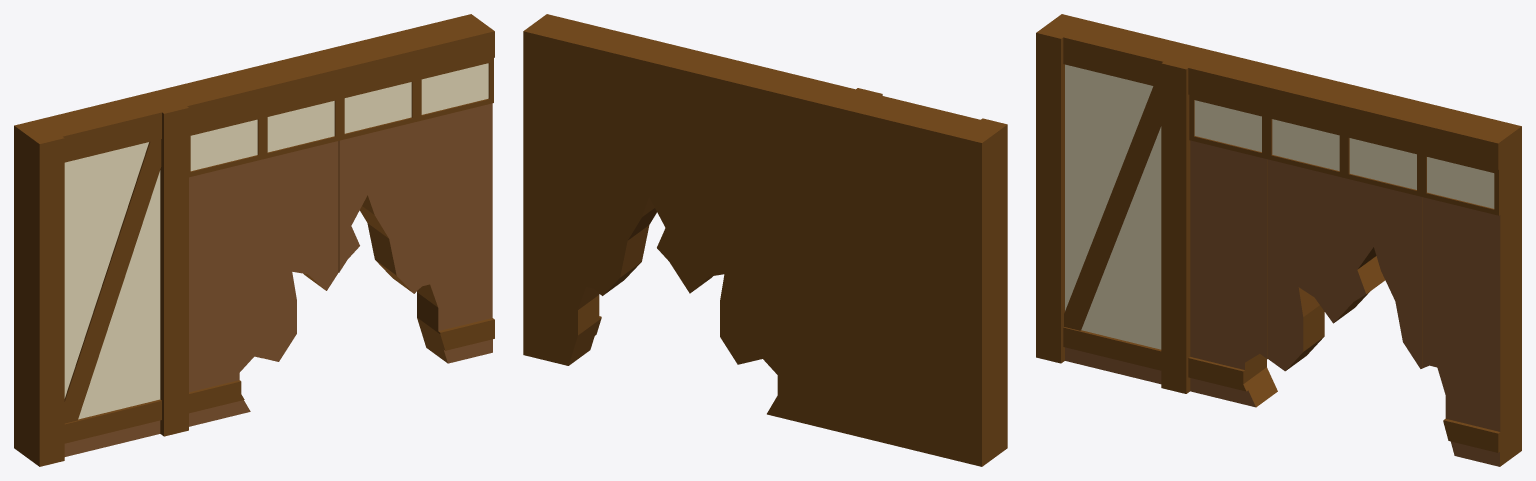
Rendered from Asian_Prop_Building_Modular_Wall_Rural_Damaged_01.FBX.
The picture shows the model from 3 angles, left to right: view 1: azimuth 30°, elevation 25°; view 2: azimuth 150°, elevation 25°; view 3: azimuth 330°, elevation 25°; orthographic projection.
Parts seen in each view (by area): view 1: Asian_Prop_Building_Modular_Wall_Rural_Damaged_01; view 2: Asian_Prop_Building_Modular_Wall_Rural_Damaged_01; view 3: Asian_Prop_Building_Modular_Wall_Rural_Damaged_01.
Boxes of the visible parts, x1,y1,x2,y2 form: Asian_Prop_Building_Modular_Wall_Rural_Damaged_01: (14, 14, 494, 466); Asian_Prop_Building_Modular_Wall_Rural_Damaged_01: (523, 14, 1007, 466); Asian_Prop_Building_Modular_Wall_Rural_Damaged_01: (1036, 14, 1521, 466).
Size of the model in its own units: 5167 by 3485 by 500.
